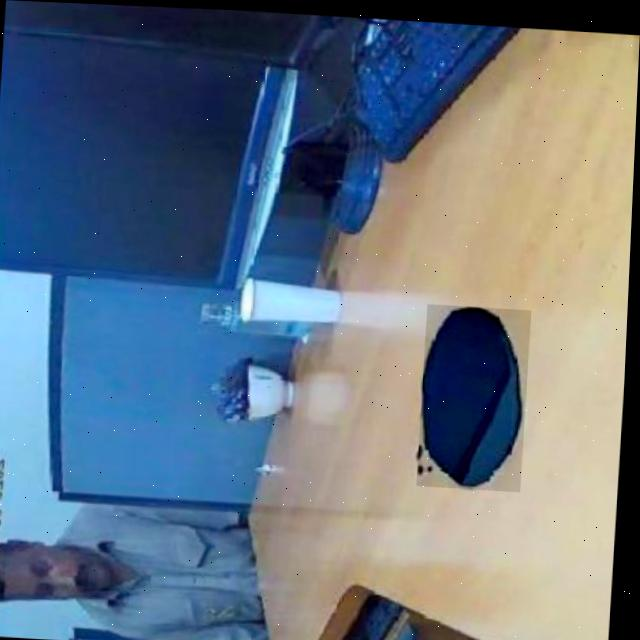spillage: (427, 302, 527, 483)
